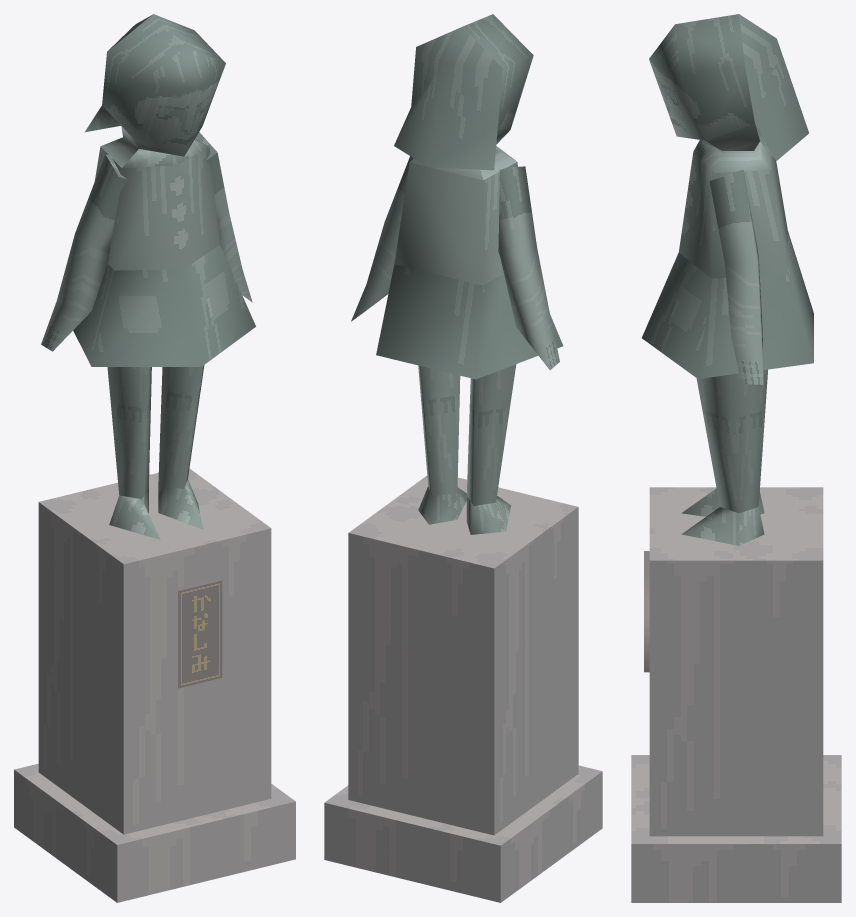
File: 0435_Spirit_of_Sorrow.glb
3 renders of one model, left to right at view 1: azimuth 30°, elevation 25°; view 2: azimuth 150°, elevation 25°; view 3: azimuth 270°, elevation 25°, orthographic. The views are drawn at different scales.
Parts seen in each view (by area): view 1: part_0; view 2: part_0; view 3: part_0.
Part boxes in pixels (left/top/right/bottom): part_0: left=14, top=14, right=295, bottom=902; part_0: left=324, top=14, right=602, bottom=902; part_0: left=631, top=14, right=841, bottom=902.
Bounding box in the file's own units: 0.8742 × 3.43 × 0.7744.
1 material, 1 textured.
